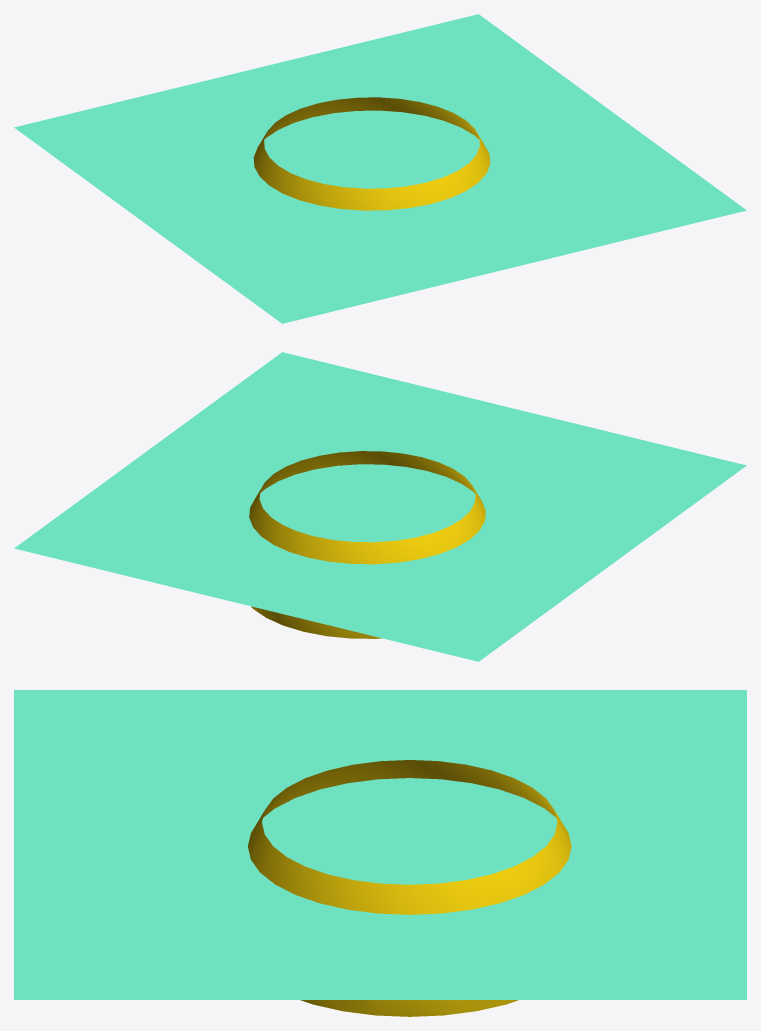
File: Background.fbx
3 views of the same model, one above another, from view 1: azimuth 30°, elevation 25°; view 2: azimuth 150°, elevation 25°; view 3: azimuth 270°, elevation 25° (orthographic). The views are drawn at different scales.
Parts seen in each view (by area): view 1: RR, Background; view 2: RR, Background; view 3: RR, Background.
Part boxes in pixels (x1=…): RR: x1=14, y1=14, x2=746, y2=323; Background: x1=253, y1=97, x2=490, y2=210; RR: x1=14, y1=352, x2=746, y2=661; Background: x1=249, y1=451, x2=485, y2=638; RR: x1=14, y1=690, x2=746, y2=999; Background: x1=248, y1=760, x2=571, y2=1016.
Bounding box in the file's own units: 41134 × 7492 × 41134.
